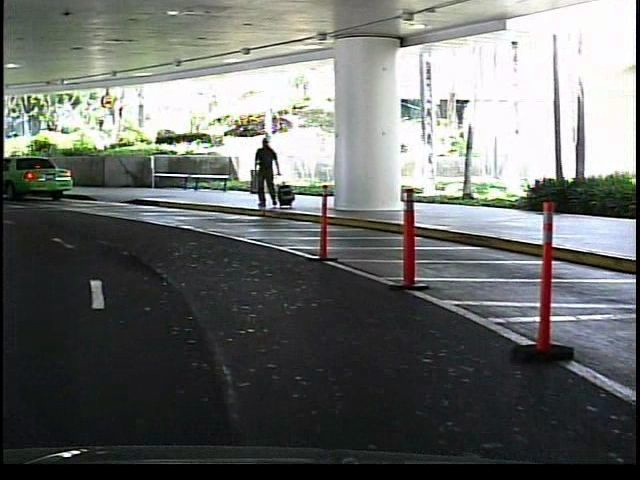person: (251, 132, 285, 213)
